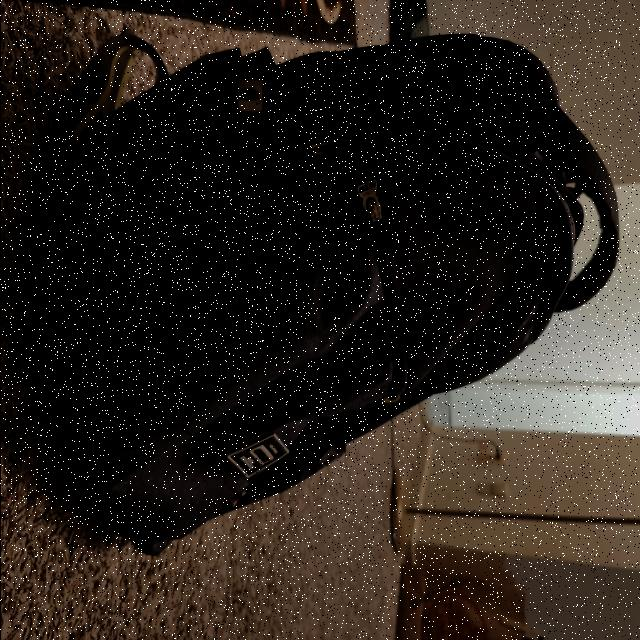bag: (49, 56, 618, 530)
